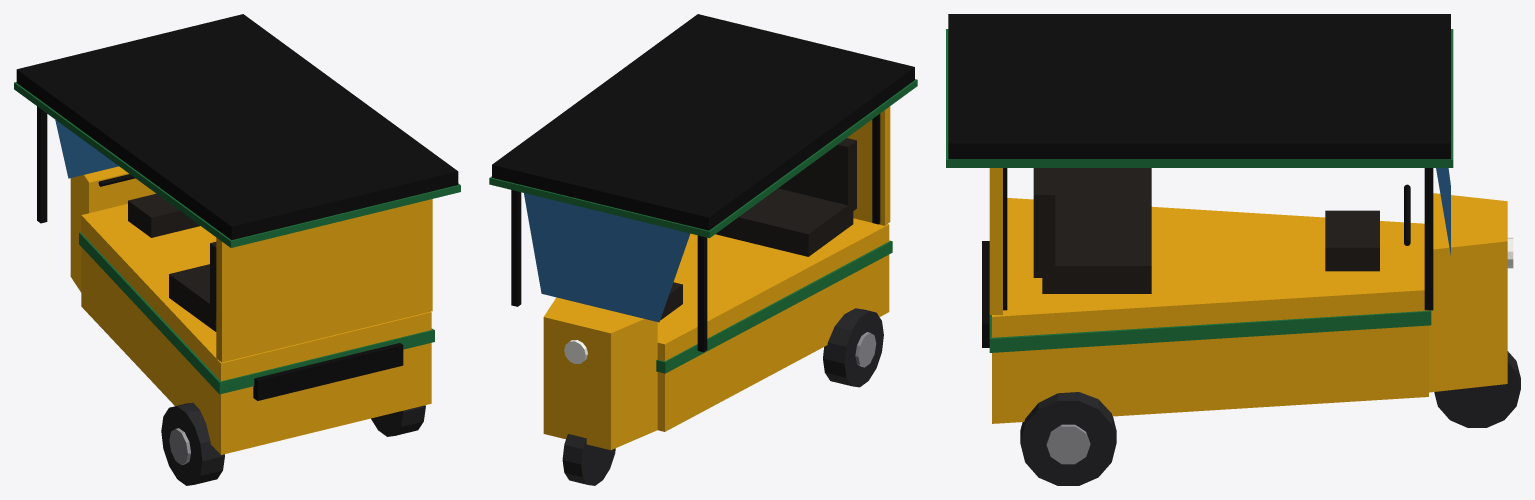
The model's file is Keke.obj.
The picture shows the model from 3 angles, left to right: view 1: azimuth 30°, elevation 25°; view 2: azimuth 150°, elevation 25°; view 3: azimuth 270°, elevation 25°; orthographic projection. The views are drawn at different scales.
Parts seen in each view (by area): view 1: Cube; view 2: Cube; view 3: Cube.
Part boxes in pixels (x1,y1,x2,y2): Cube: (14,14,460,485); Cube: (489,14,917,485); Cube: (946,14,1520,485).
Bounding box in the file's own units: 1.42 × 1.73 × 2.63.
